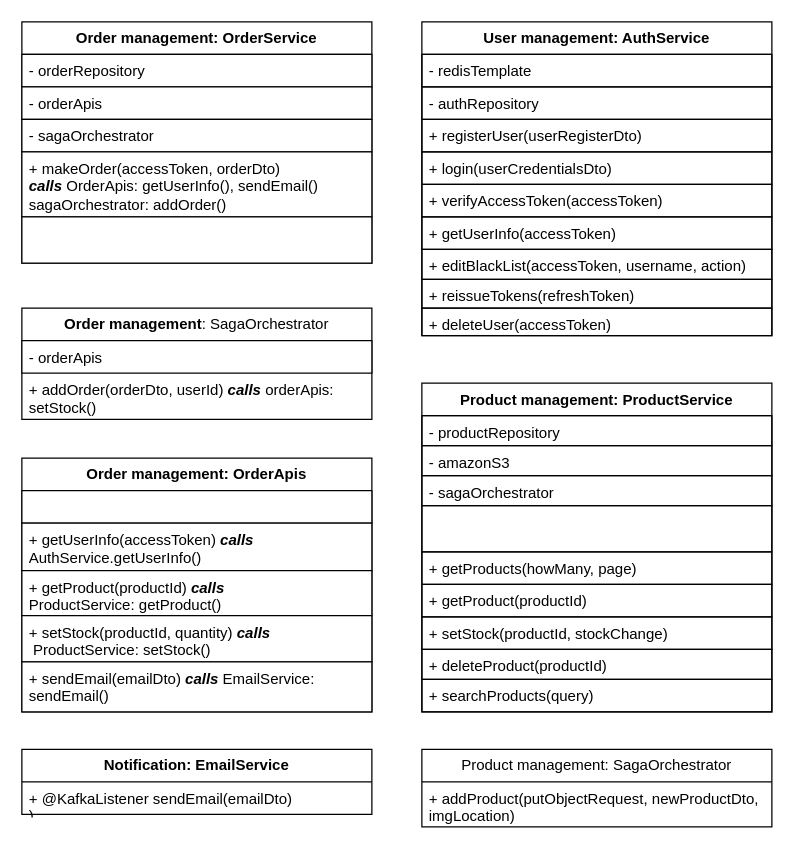
Some shapes in this 794 by 853 pixel diagram are drawn without their labels. Each missing label, with the centre of its shape:
+ addProduct(newProductDto) calls sagaOrchestrator: addProduct: (x=596, y=528)
+ getUserOrders(accessToken) calls orderApis: getUserInfo(), getProduct(): (x=196, y=239)
- kafkaTemplate: (x=196, y=506)
